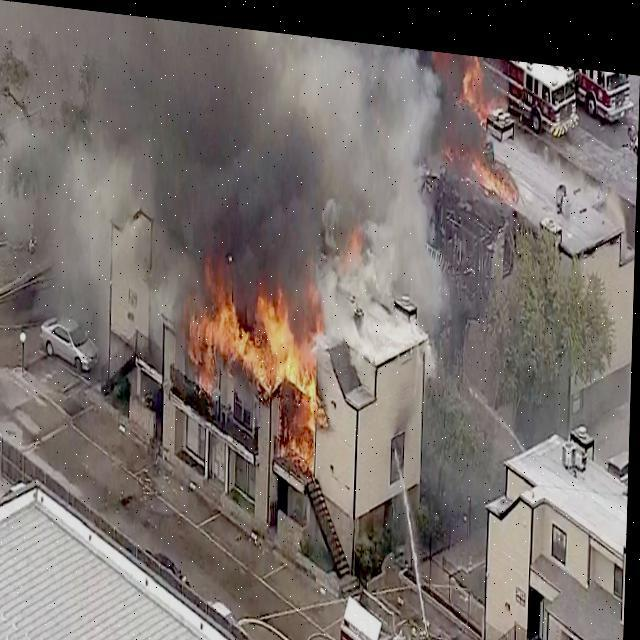Fire: (176, 255, 350, 477), (442, 56, 534, 196)
